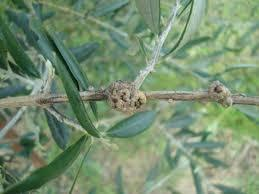Tuberculosis: (105, 78, 147, 116), (206, 79, 234, 109)
